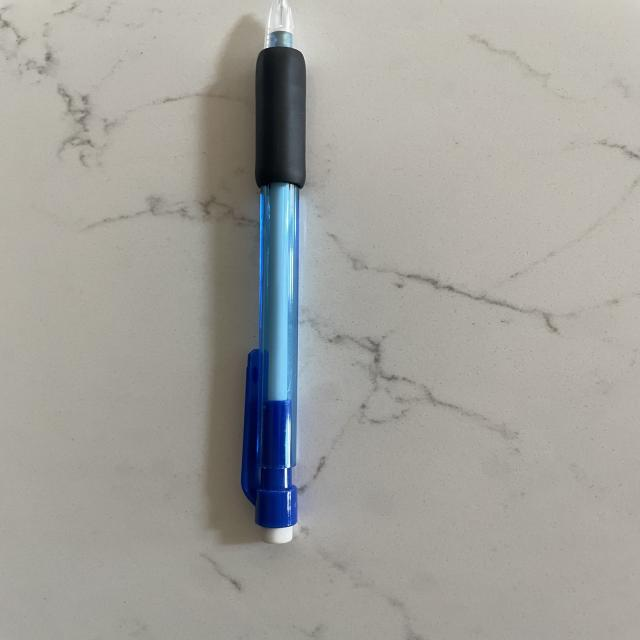mechanical-pencils: (239, 1, 312, 543)
